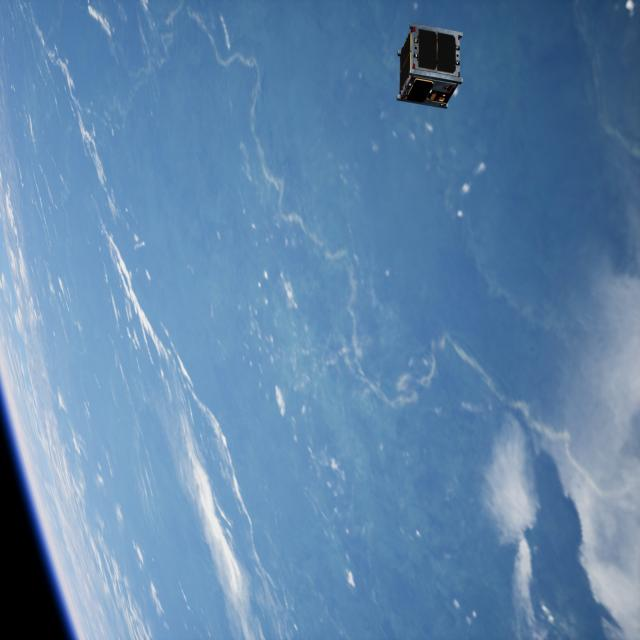medium_debris: (396, 20, 468, 111)
